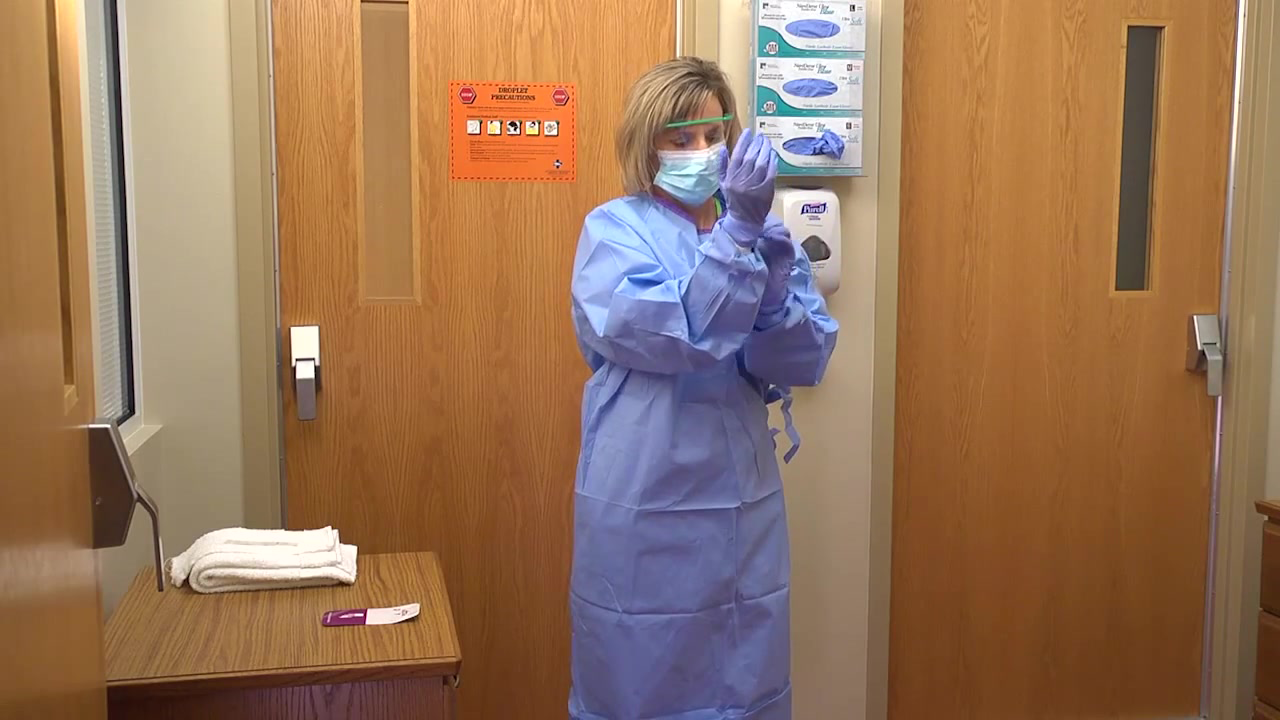Coverall: (565, 186, 830, 720)
Face_Shield: (644, 114, 731, 208)
Gloves: (718, 122, 785, 251)
with_mask: (648, 144, 727, 195)
